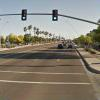Traffic light: (16, 5, 65, 31)
